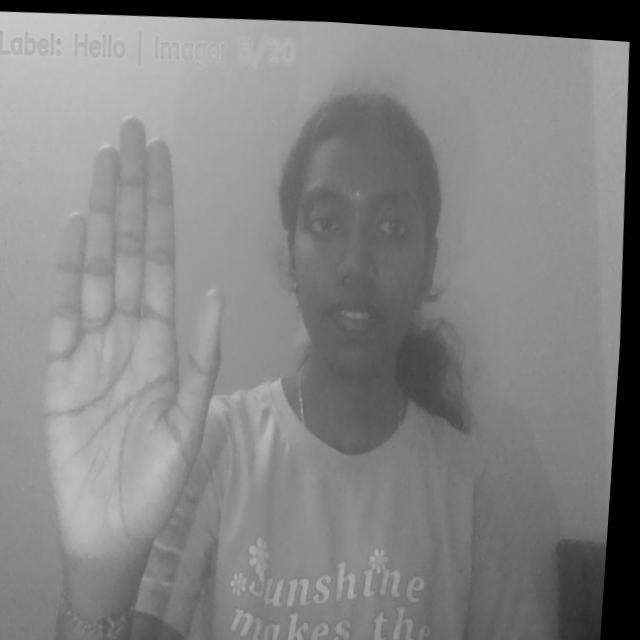Hello: (26, 102, 256, 602)
